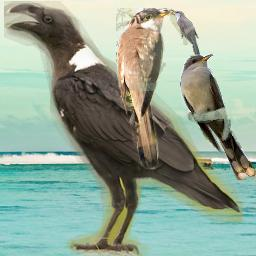Crow: (4, 1, 243, 256)
Cuckoo: (180, 54, 256, 180), (116, 8, 174, 169), (170, 10, 201, 60)
